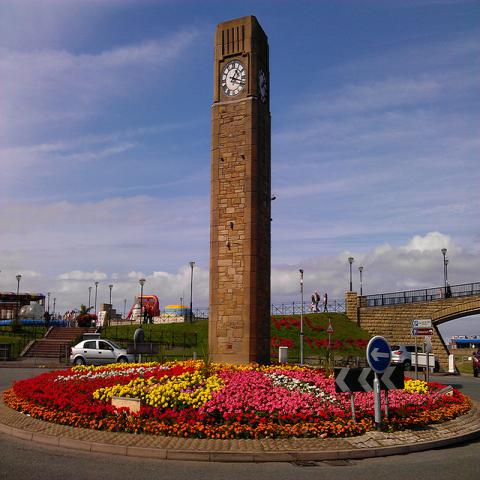car: (70, 340, 132, 367), (391, 344, 440, 373), (159, 305, 196, 317)
